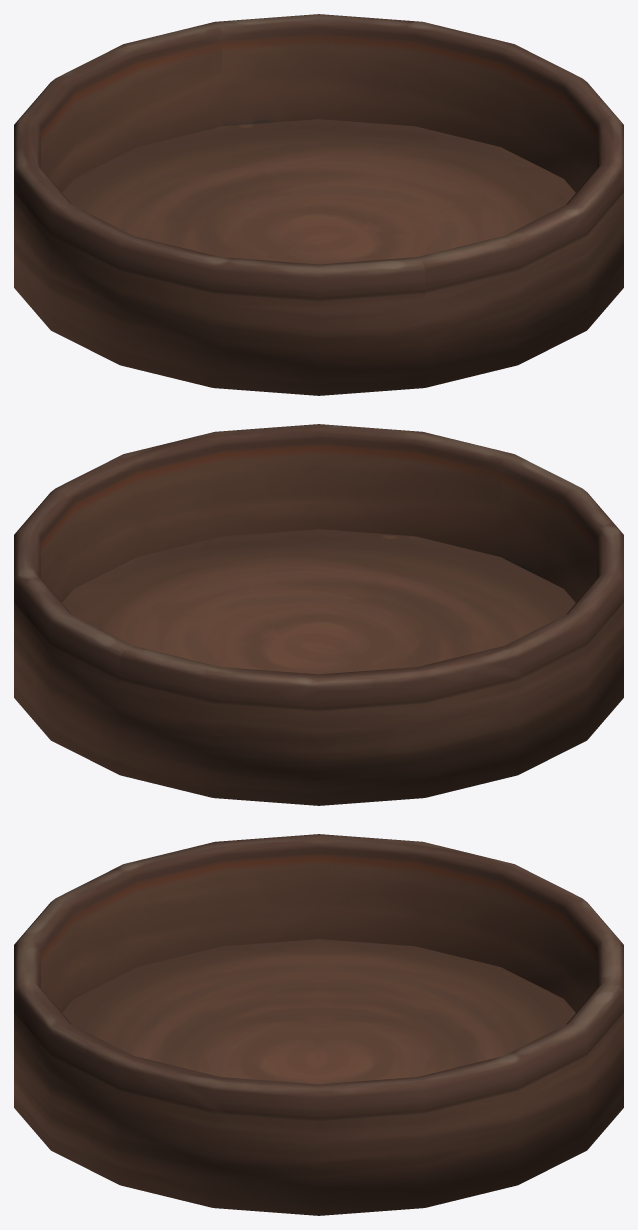
The model's file is Plate_06.FBX.
3 renders of one model, top to bottom at view 1: azimuth 30°, elevation 25°; view 2: azimuth 150°, elevation 25°; view 3: azimuth 270°, elevation 25°, orthographic.
Parts seen in each view (by area): view 1: Plate_06; view 2: Plate_06; view 3: Plate_06.
Boxes of the visible parts, bbox=[...] form: Plate_06: bbox=[14, 14, 623, 395]; Plate_06: bbox=[14, 424, 623, 805]; Plate_06: bbox=[14, 834, 623, 1215].
Bounding box in the file's own units: 138 × 30.06 × 136.
